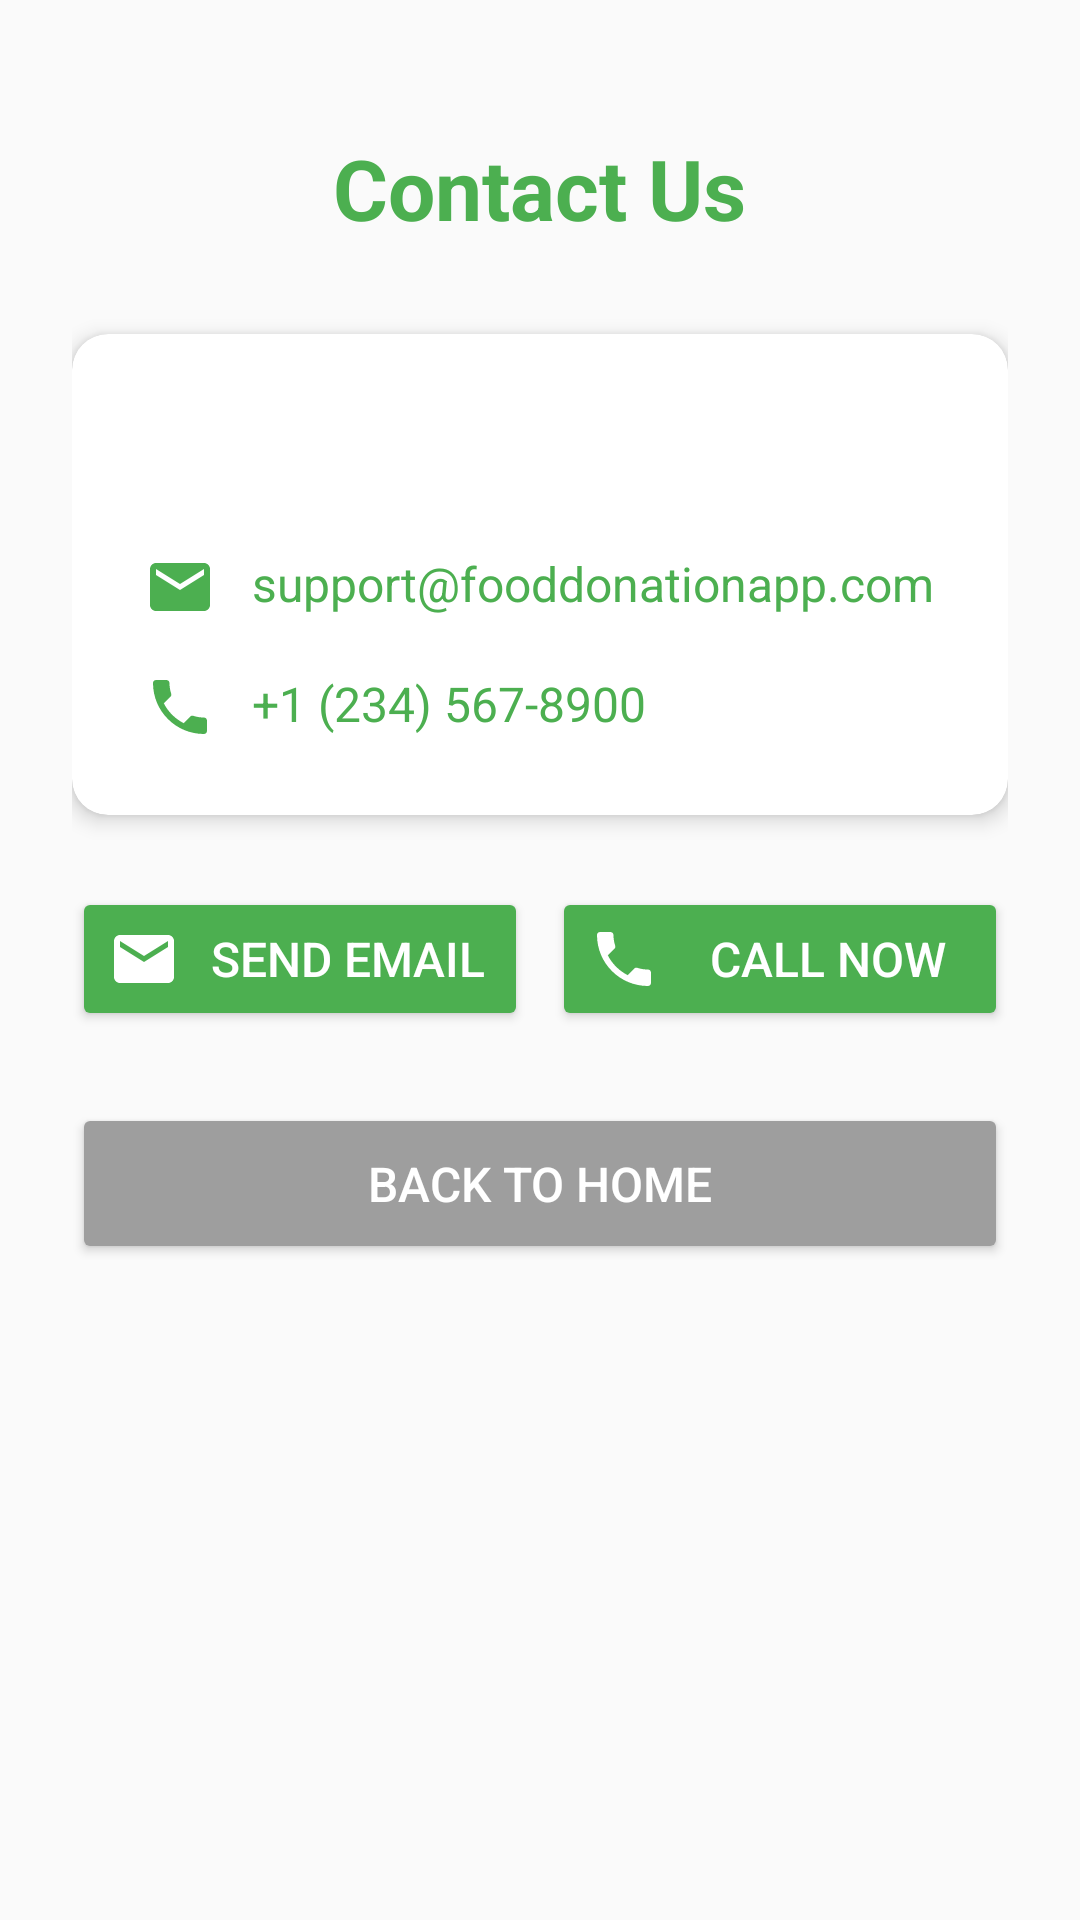

Named icons in this screenshot (1080x1920) and their bounding boxes, (x1, y1, x2, y2):
Email Icon: (150, 563, 210, 611)
Phone Icon: (153, 680, 207, 734)
